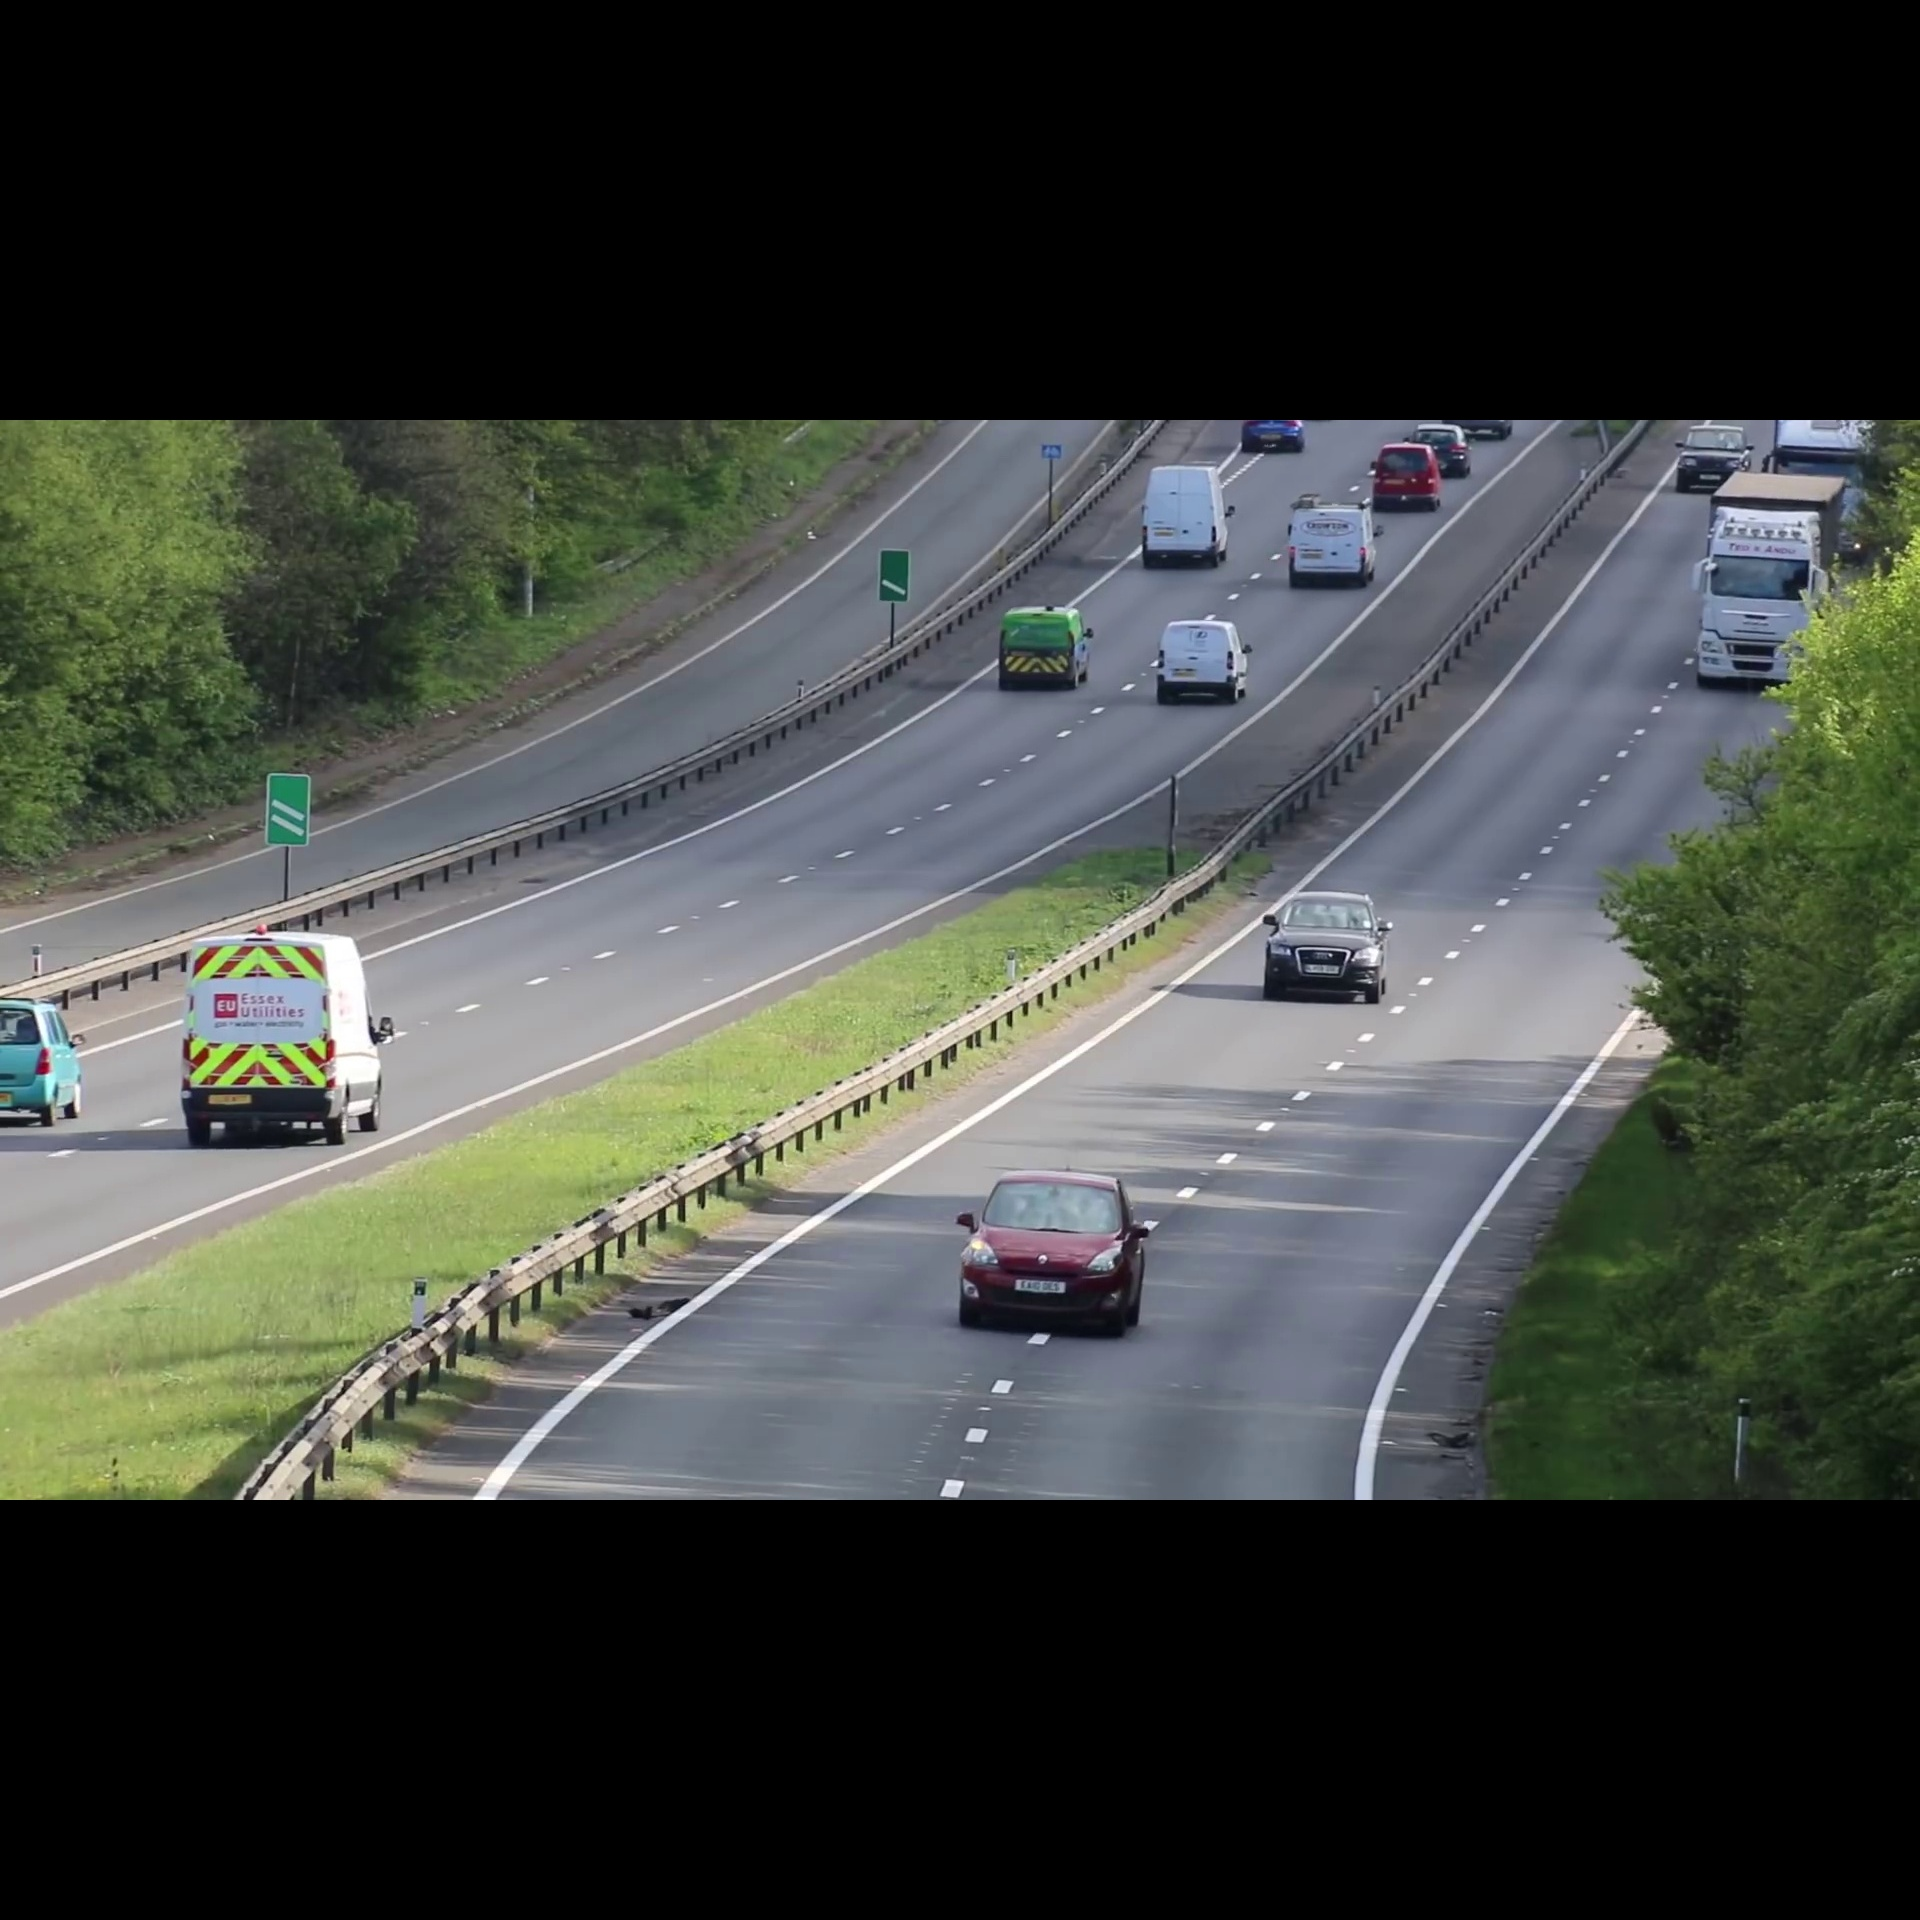vehicle: (176, 928, 397, 1150), (946, 1160, 1157, 1342), (1690, 478, 1851, 689), (1252, 883, 1394, 1007), (2, 992, 88, 1127), (1148, 615, 1259, 709), (1139, 461, 1234, 568), (993, 605, 1097, 693), (1282, 498, 1378, 587), (1670, 422, 1755, 492), (1371, 441, 1445, 515), (1408, 424, 1473, 464), (1238, 420, 1308, 457)
